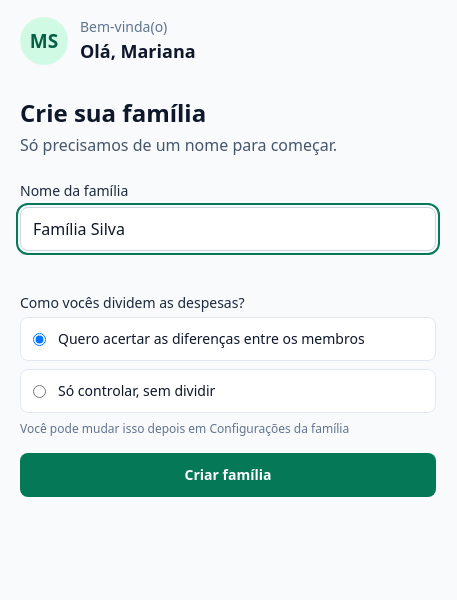
Test: US-002 Duplo clique não duplica (componente) › falha de rede preserva o nome e reaproveita a mesma chave no reenvio
Click the button "Criar família".
click(228, 475)  # box [20,453,436,497]
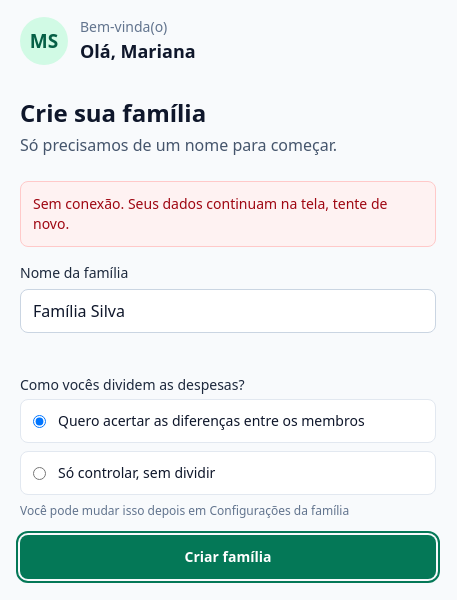
Expected: the field labelled "Nome da família" holds "Família Silva", [20,289,436,333]
Expected: the text "Sem conexão. Seus dados continuam na tela, tente de novo." is shown, [20,181,436,247]
Click the button "Criar família".
click(228, 557)  # box [20,535,436,579]
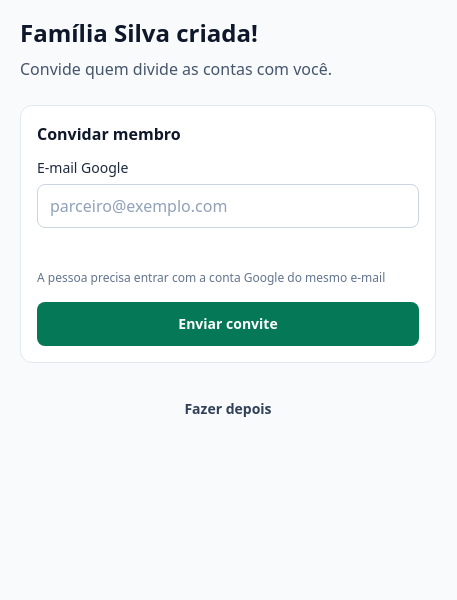
Expected: the heading "Família Silva criada!" is shown, [20,16,258,49]
